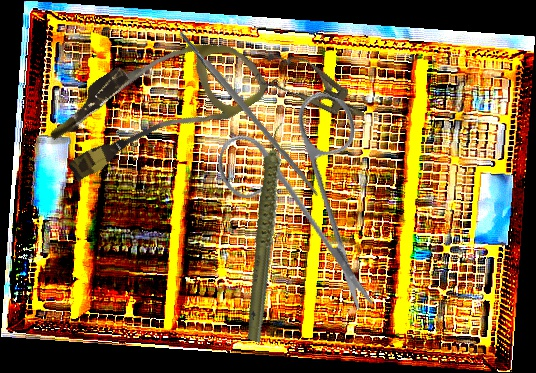Cannula: (37, 4, 273, 205)
Handpiece: (202, 120, 335, 344)
Iris Scissors: (186, 68, 432, 313)
Scalpel Handle: (176, 26, 322, 199)
Speculum: (253, 42, 374, 135)
